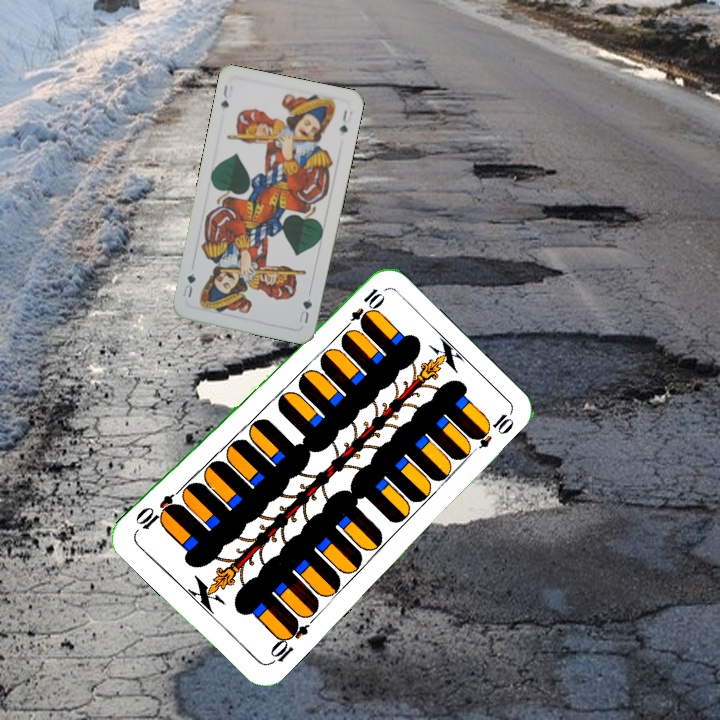E10: (265, 615, 311, 668), (339, 284, 386, 335)
GU: (294, 294, 315, 326), (217, 80, 231, 110)
